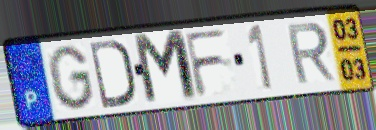1: (245, 22, 275, 92)
D: (86, 37, 137, 111)
F: (181, 26, 230, 100)
G: (45, 43, 97, 113)
M: (129, 27, 202, 108)
R: (284, 20, 338, 87)
